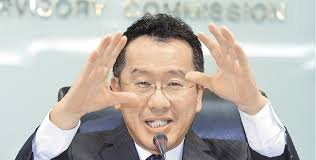hand: (67, 32, 138, 113), (186, 23, 256, 103)
